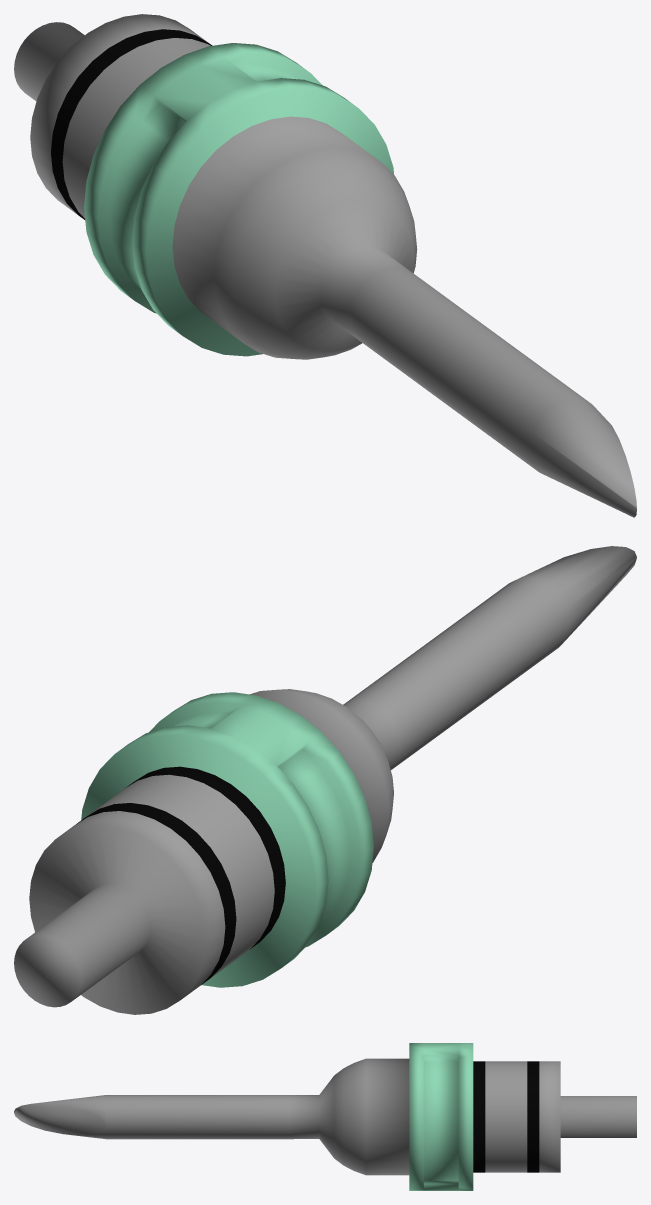
File: Drill2.fbx
3 views of the same model, one above another, from view 1: azimuth 30°, elevation 25°; view 2: azimuth 150°, elevation 25°; view 3: azimuth 270°, elevation 25° (orthographic). The views are drawn at different scales.
Parts seen in each view (by area): view 1: Drill2; view 2: Drill2; view 3: Drill2.
Part boxes in pixels (x1,y1,x2,y2): Drill2: [14, 14, 636, 517]; Drill2: [14, 546, 636, 1014]; Drill2: [14, 1043, 636, 1190].
Bounding box in the file's own units: 1.24 × 1.24 × 5.23.
